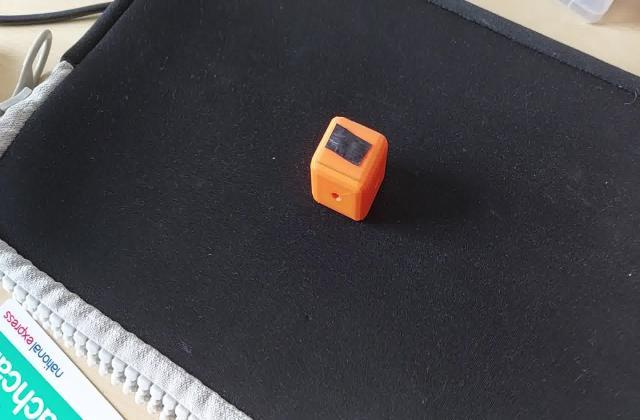black: (326, 130, 378, 167)
sticker: (308, 111, 392, 223)
